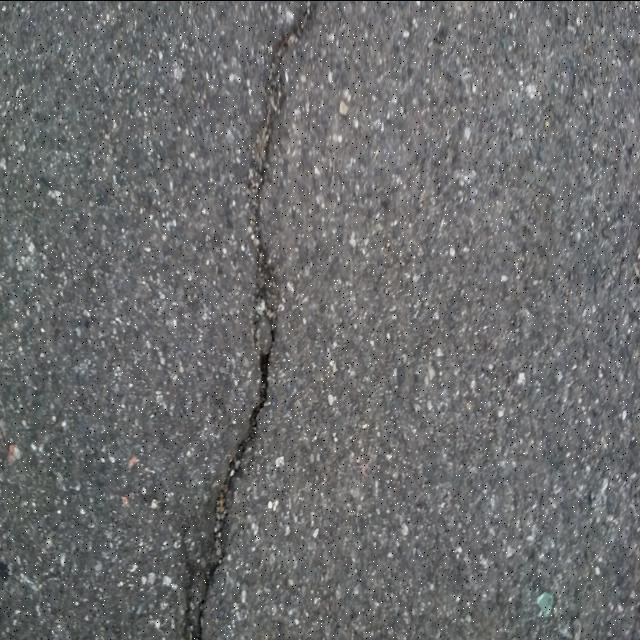Crack: (193, 0, 315, 640), (179, 520, 194, 635)
